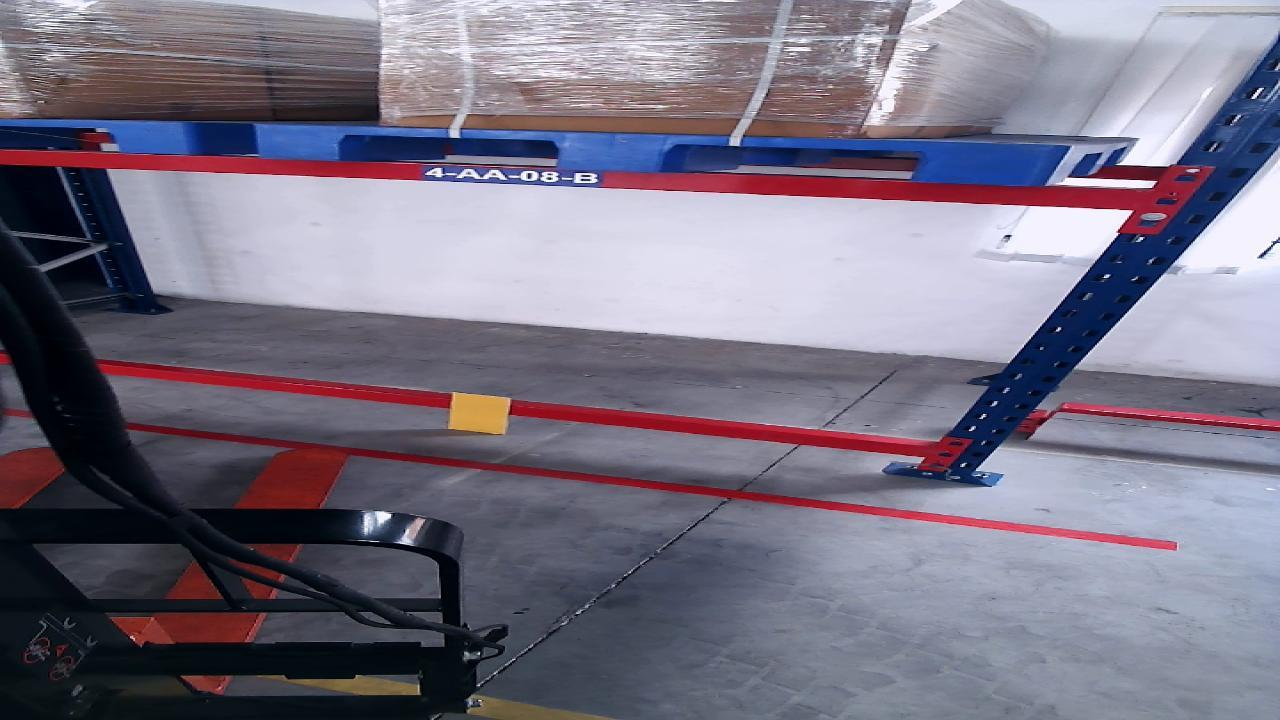h_rack: (96, 364, 931, 457), (0, 149, 1141, 210)
orange_strip: (451, 394, 508, 435)
red_line: (125, 422, 1176, 550)
small_pallet: (256, 125, 1059, 187)
